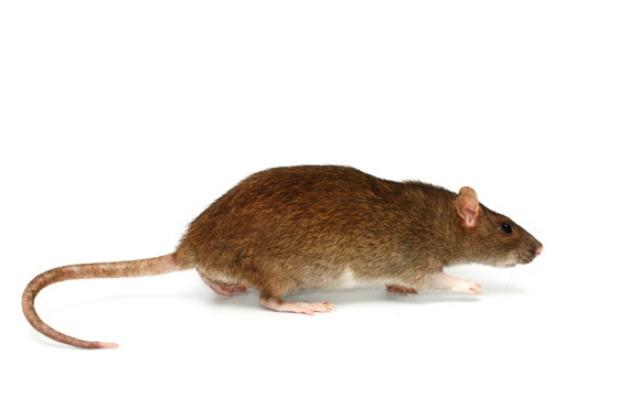rat: (14, 159, 550, 357)
